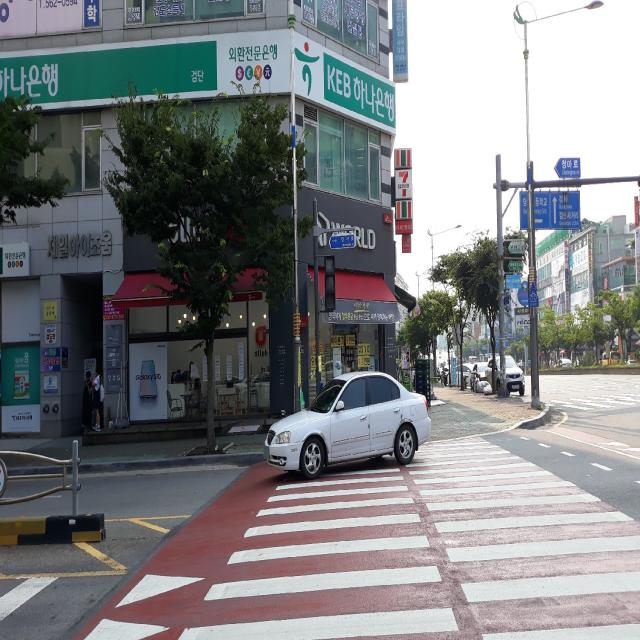횡단보도: (177, 441, 640, 640)
